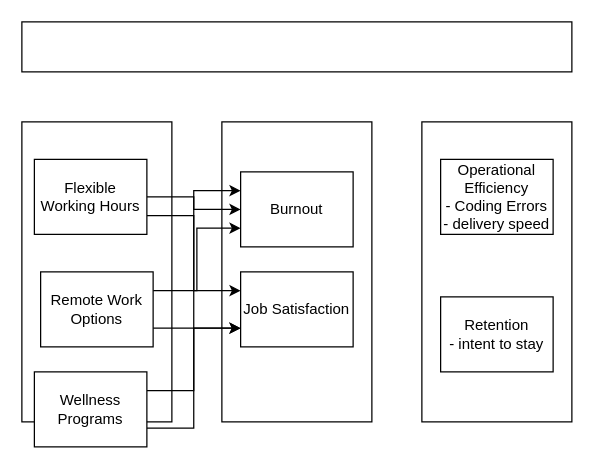
This 594x469 diagram has some shape labels left out. Here are the shapes that lost their labels. From the top down, the box of each, then its label:
(21, 21, 572, 72): Gender Moderation
(21, 121, 172, 422): Inputs
(221, 121, 372, 422): Mediators
(421, 121, 572, 422): Outcomes
